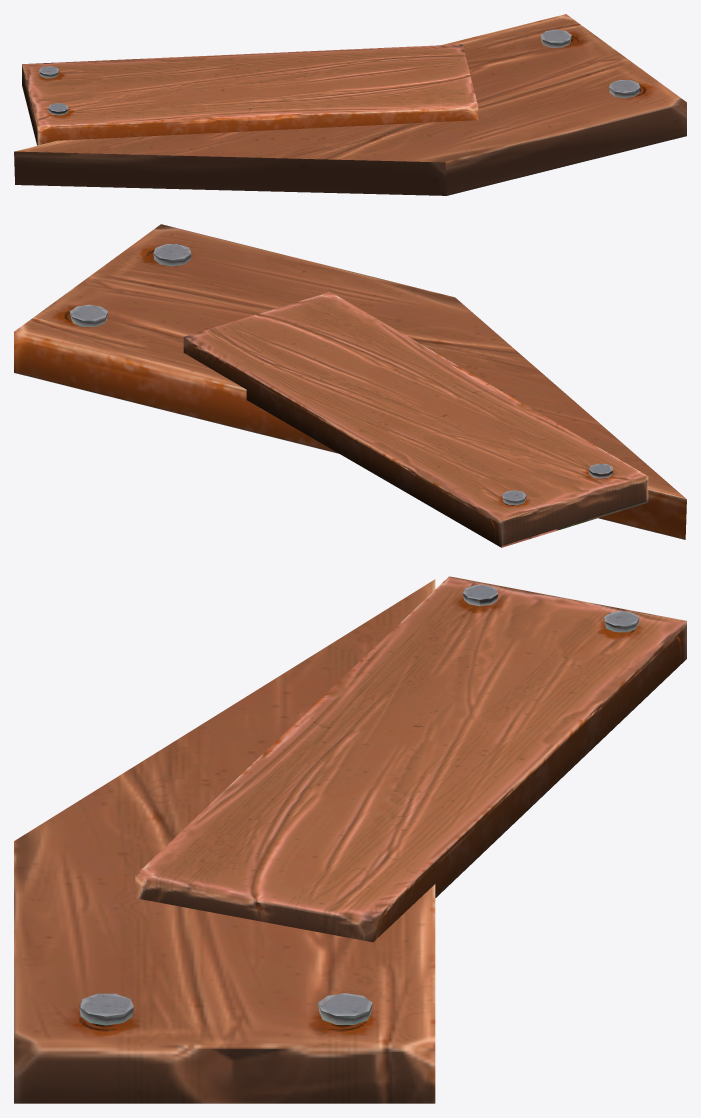
The model's file is SM_Plank_MG4.fbx.
3 renders of one model, top to bottom at view 1: azimuth 30°, elevation 25°; view 2: azimuth 150°, elevation 25°; view 3: azimuth 270°, elevation 25°, orthographic. The views are drawn at different scales.
Parts seen in each view (by area): view 1: Object139; view 2: Object139; view 3: Object139.
Boxes of the visible parts, x1=… form: Object139: x1=14, y1=14, x2=686, y2=195; Object139: x1=14, y1=224, x2=686, y2=547; Object139: x1=14, y1=576, x2=686, y2=1103.
Size of the model in its own units: 141 by 85.23 by 13.22.
